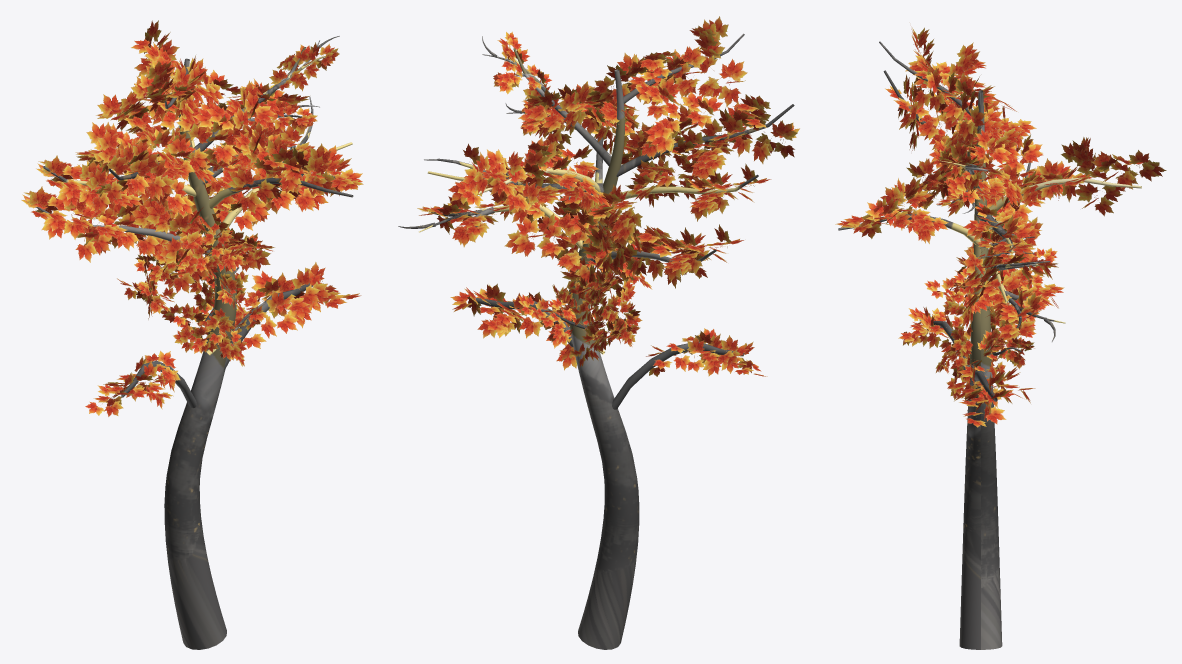
File: abre_orange_2.fbx
3 views of the same model, side by side, from view 1: azimuth 30°, elevation 25°; view 2: azimuth 150°, elevation 25°; view 3: azimuth 270°, elevation 25° (orthographic). The views are drawn at different scales.
Visible parts, largest first — view 1: arbre_orange_2_plane; view 2: arbre_orange_2_plane; view 3: arbre_orange_2_plane.
Part boxes in pixels (<box>): arbre_orange_2_plane: <box>21,20,363,649</box>; arbre_orange_2_plane: <box>398,16,799,649</box>; arbre_orange_2_plane: <box>835,27,1166,649</box>.
Size of the model in its own units: 23.8 by 41.75 by 21.32.
